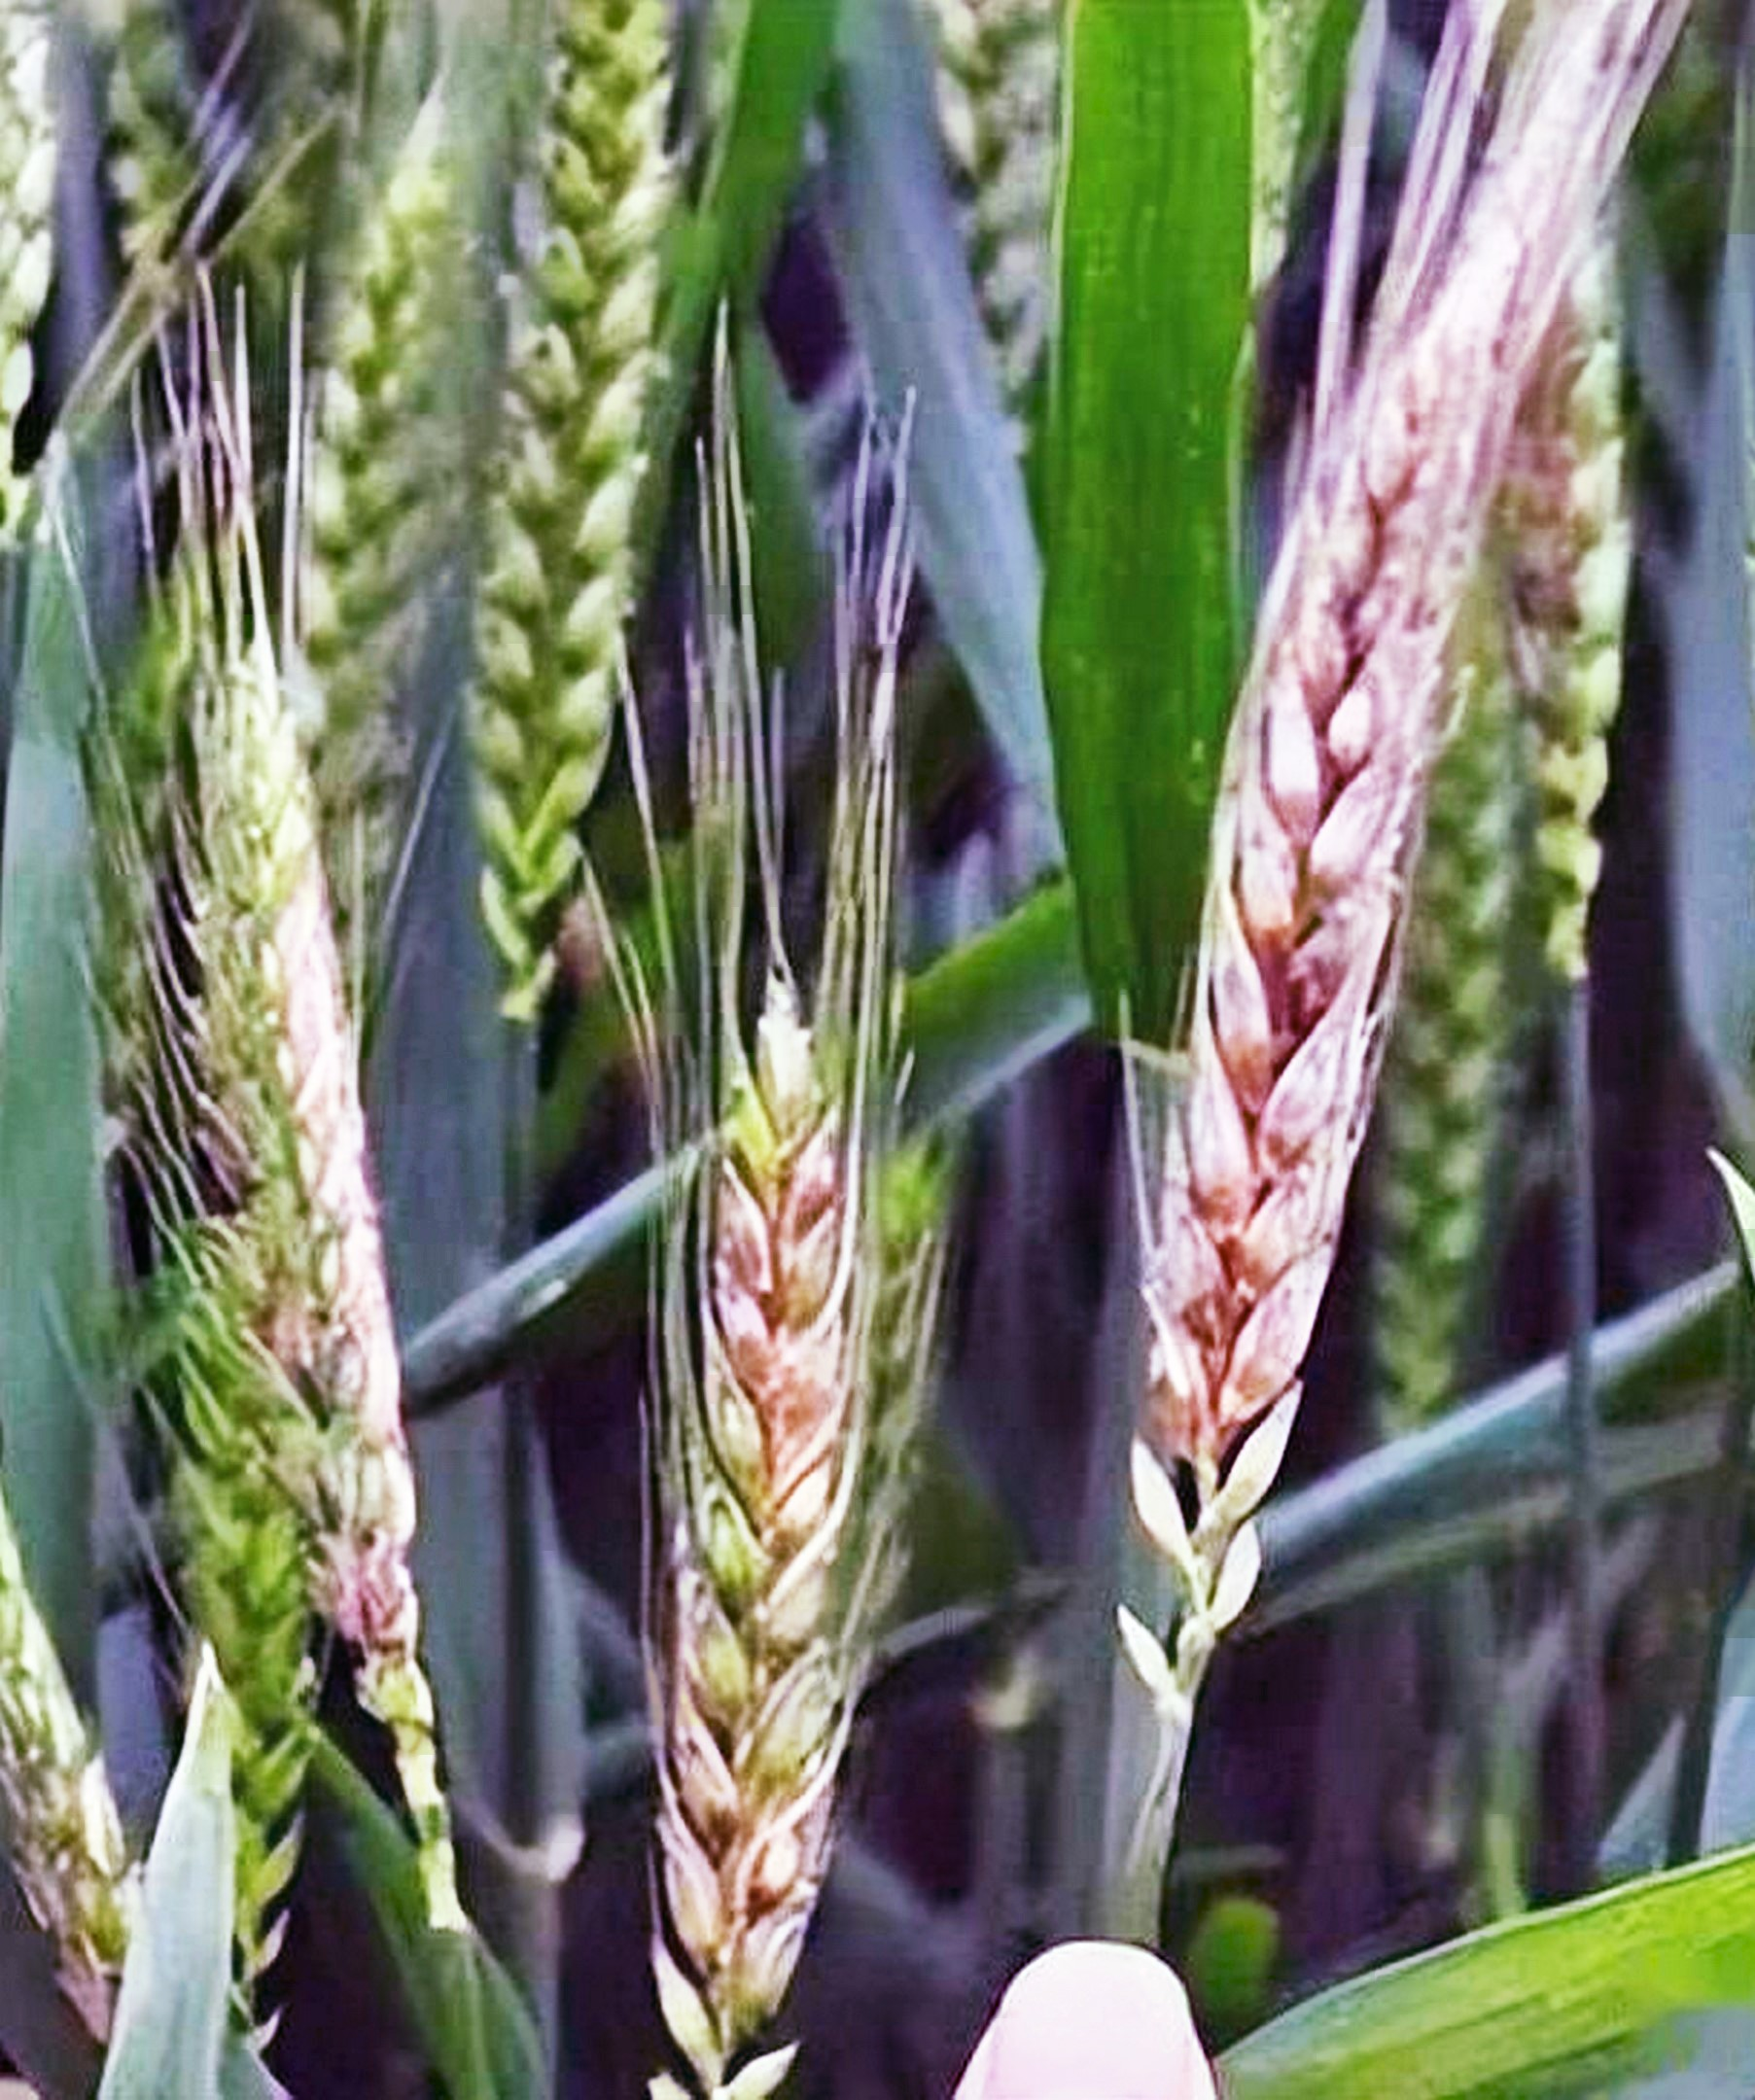Wheat scab: (1092, 248, 1553, 1641), (581, 952, 876, 2063)
